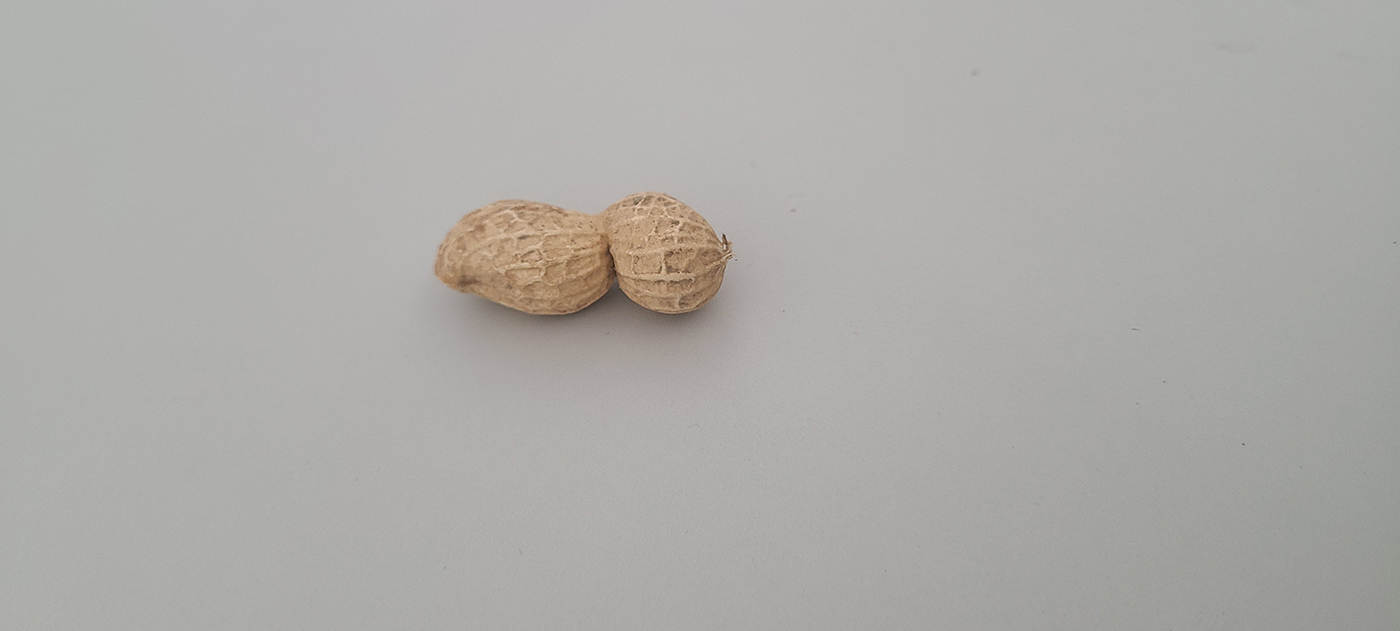h: (428, 192, 728, 321)
